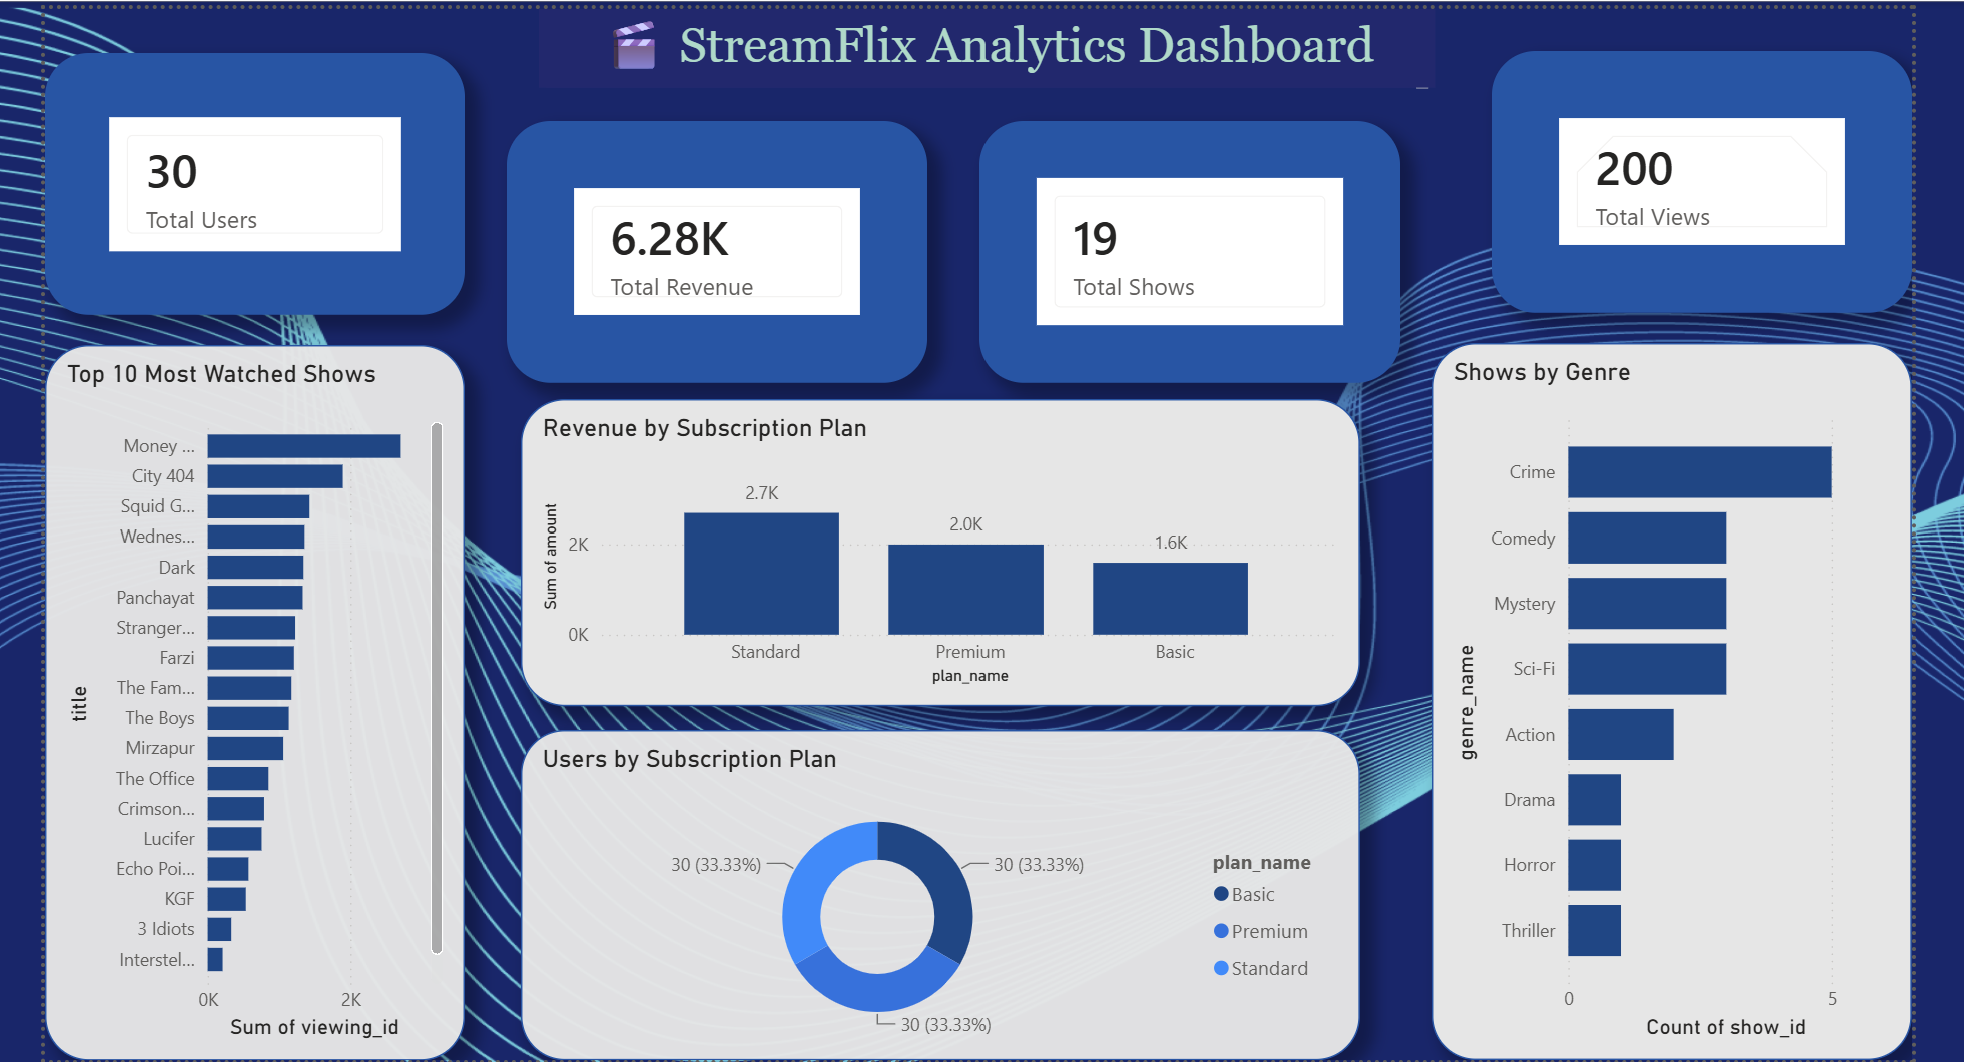

Layout of this report page (visuals, bound fields, positions):
{"tool":"powerbi","page":{"name":"Page 1","canvas":[1280,720],"ordinal":0},"visuals":[{"type":"cardVisual","fields":{"Data":["CountNonNull(streamflix users.user_id)"]},"box":[0,30.2,288,179.3],"z":0},{"type":"cardVisual","fields":{"Data":["Sum(streamflix payments.amount)"]},"box":[317,77.3,288,179.3],"z":1000},{"type":"cardVisual","fields":{"Data":["CountNonNull(streamflix shows.show_id)"]},"box":[640,77.3,288,179.3],"z":2000},{"type":"cardVisual","fields":{"Data":["Count(streamflix viewing_history.viewing_id)"]},"box":[991.5,28.8,288,179.3],"z":3000},{"type":"clusteredColumnChart","title":"Revenue by Subscription Plan","fields":{"Category":["streamflix subscription_plans.plan_name"],"Y":["Sum(streamflix payments.amount)"]},"box":[326.4,267.4,574.6,210],"z":4000},{"type":"donutChart","title":"Users by Subscription Plan","fields":{"Y":["CountNonNull(streamflix users.user_id)"],"Category":["streamflix subscription_plans.plan_name","streamflix users.plan_id"]},"box":[326.4,493.7,574.6,226.3],"z":5000},{"type":"clusteredBarChart","title":"Top 10 Most Watched Shows","fields":{"Category":["streamflix shows.title"],"Y":["Sum(streamflix viewing_history.viewing_id)"]},"box":[0,230.4,288,490],"z":6000},{"type":"textbox","title":"🎬 StreamFlix Analytics Dashboard","box":[338.2,0,614.2,59.1],"z":7000},{"type":"clusteredBarChart","title":"Shows by Genre","fields":{"Category":["streamflix genres.genre_name"],"Y":["Count(streamflix shows.show_id)"]},"box":[950.4,229,329.1,491],"z":8000}]}

Visuals, with their boxes in screenshot pixels (x1, y1, x2, y2):
cardVisual - CountNonNull(streamflix users.user_id): pyautogui.locateOnScreen(41, 49, 461, 310)
cardVisual - Sum(streamflix payments.amount): pyautogui.locateOnScreen(503, 118, 922, 379)
cardVisual - CountNonNull(streamflix shows.show_id): pyautogui.locateOnScreen(973, 118, 1393, 379)
cardVisual - Count(streamflix viewing_history.viewing_id): pyautogui.locateOnScreen(1486, 47, 1905, 308)
"Revenue by Subscription Plan" clusteredColumnChart: pyautogui.locateOnScreen(517, 395, 1354, 701)
"Users by Subscription Plan" donutChart: pyautogui.locateOnScreen(517, 724, 1354, 1054)
"Top 10 Most Watched Shows" clusteredBarChart: pyautogui.locateOnScreen(41, 341, 461, 1055)
"🎬 StreamFlix Analytics Dashboard" textbox: pyautogui.locateOnScreen(534, 5, 1429, 91)
"Shows by Genre" clusteredBarChart: pyautogui.locateOnScreen(1426, 339, 1905, 1054)
